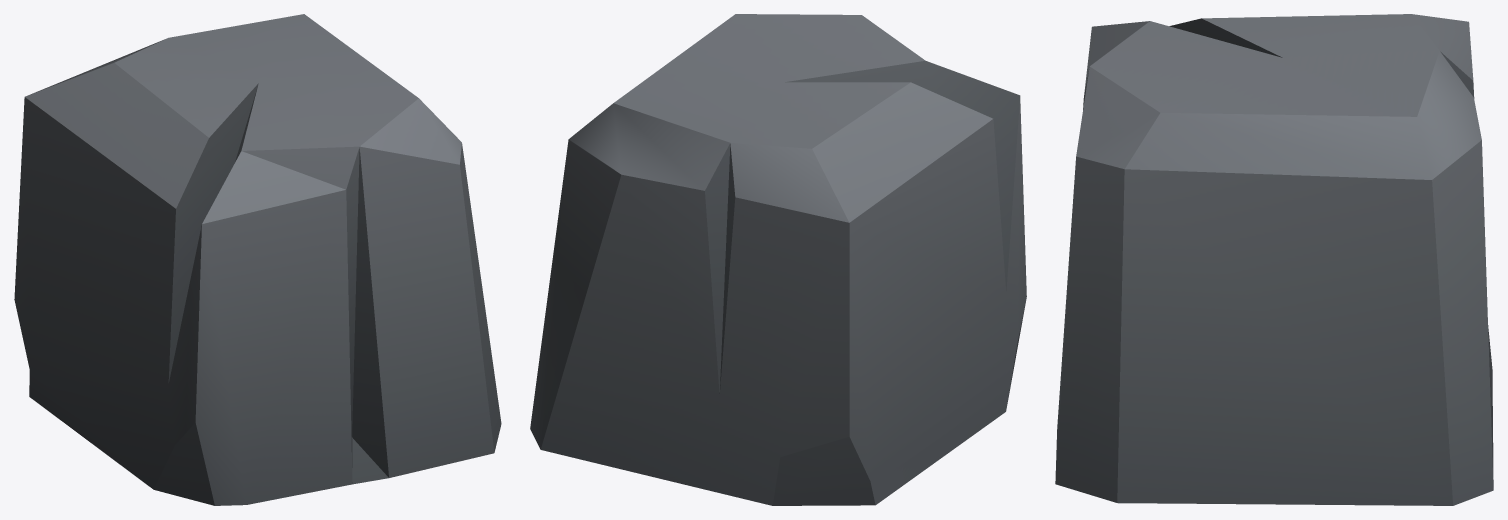
File: rock_gray.fbx
3 views of the same model, side by side, from view 1: azimuth 30°, elevation 25°; view 2: azimuth 150°, elevation 25°; view 3: azimuth 270°, elevation 25° (orthographic). The views are drawn at different scales.
Parts seen in each view (by area): view 1: rock_gray; view 2: rock_gray; view 3: rock_gray.
Part boxes in pixels (bbox=[...]): rock_gray: bbox=[14, 14, 501, 505]; rock_gray: bbox=[530, 14, 1026, 505]; rock_gray: bbox=[1055, 14, 1493, 505].
Size of the model in its own units: 16.92 by 15.83 by 17.61.
